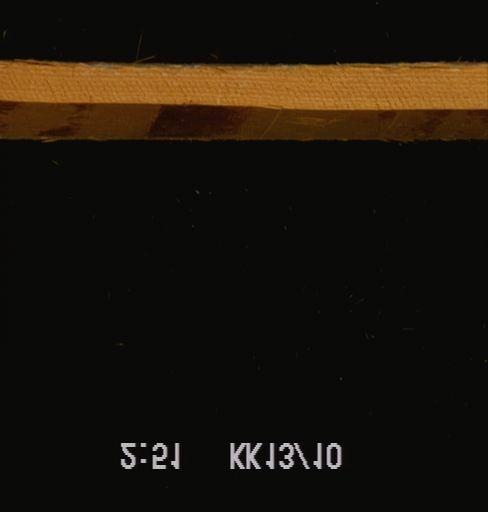wave: (0, 101, 487, 139)
